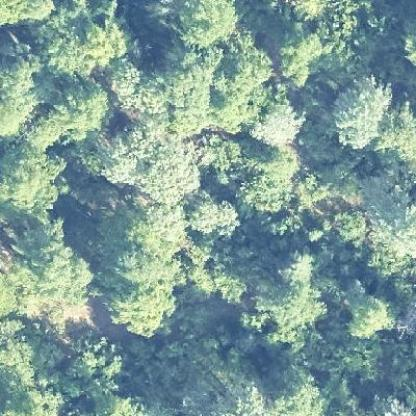tree-top: (93, 201, 189, 341), (2, 210, 94, 326), (244, 249, 324, 350), (92, 124, 198, 200), (26, 11, 129, 84), (0, 137, 72, 213), (328, 76, 392, 154), (60, 341, 127, 401), (365, 188, 415, 265), (274, 22, 330, 85), (170, 2, 245, 47), (51, 77, 107, 134), (247, 96, 304, 150), (347, 290, 392, 341)
